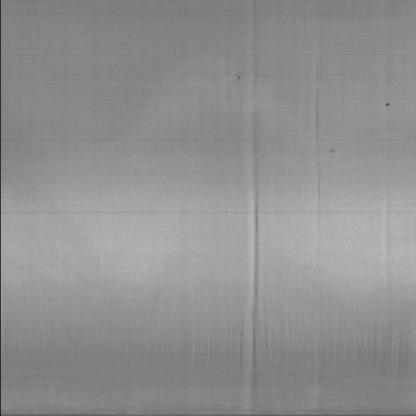inclusion: (372, 96, 405, 120)
